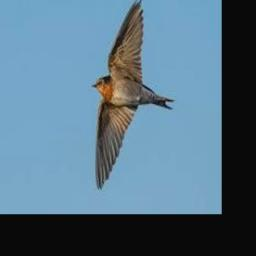Swallow: (91, 0, 173, 190)
